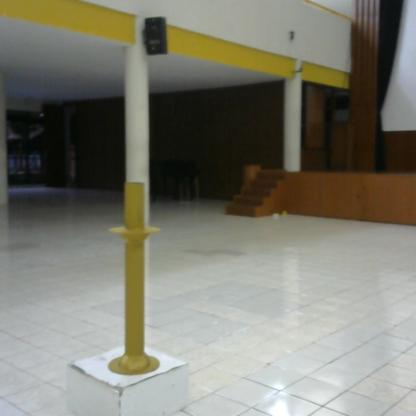pole: (106, 177, 165, 381)
